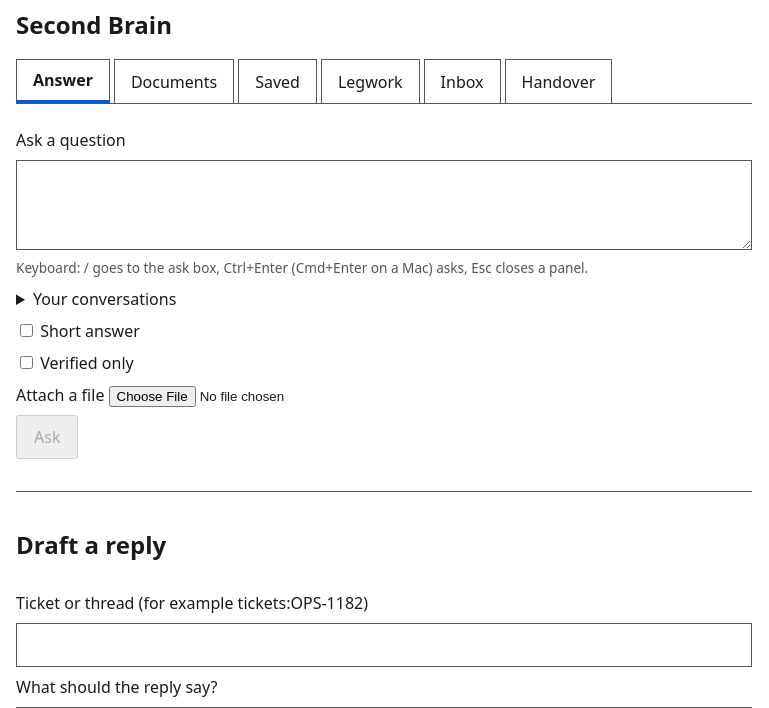
Test: handover by name › briefs at once when one person matches, and says when no one does
The image size is (769, 708).
Click the tab "Handover". click: (558, 81)
box: [505,59,612,103]
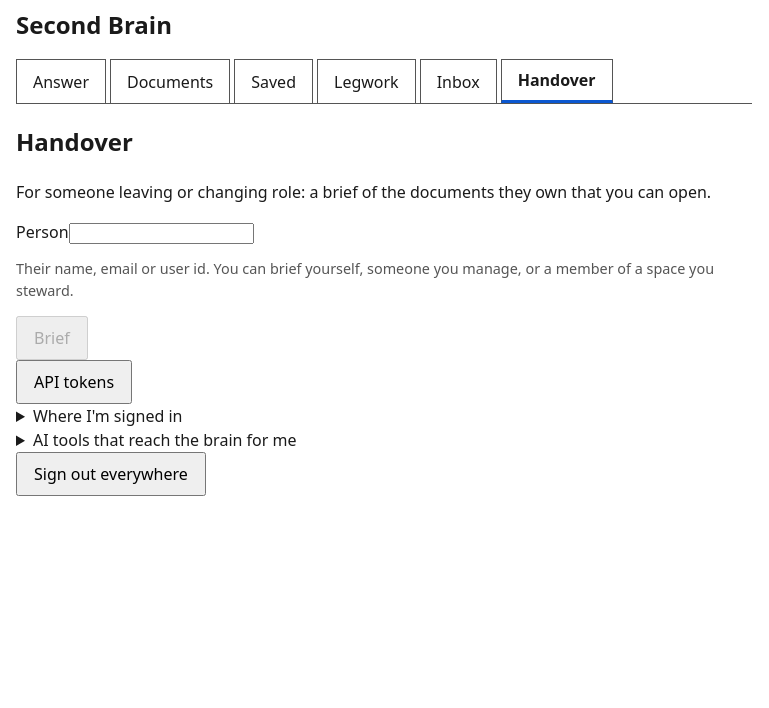
Type "dana@acme.example" into the field labelled "Person". click: (161, 234)
box: [68,223,254,244]
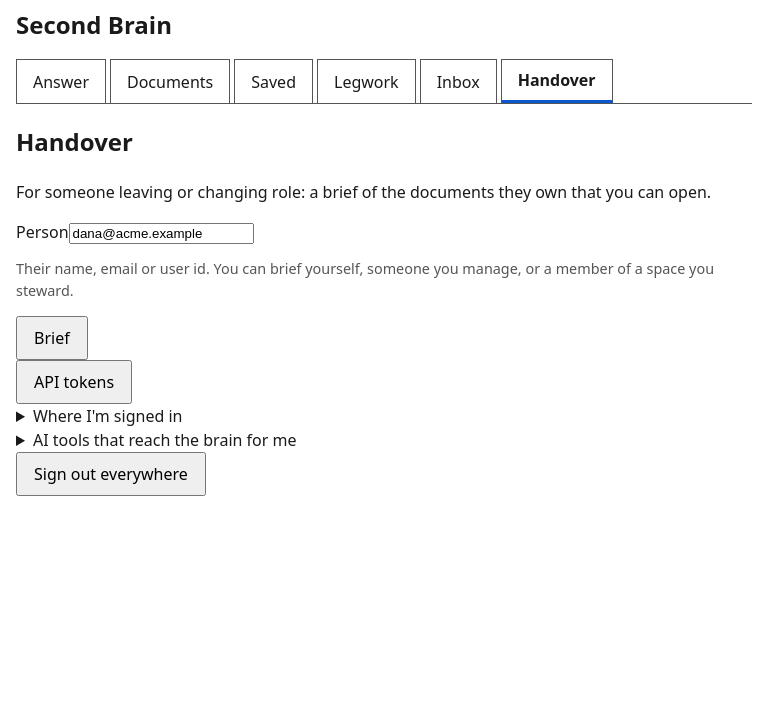
Click the button "Brief". click: (52, 338)
box: [16,316,88,360]
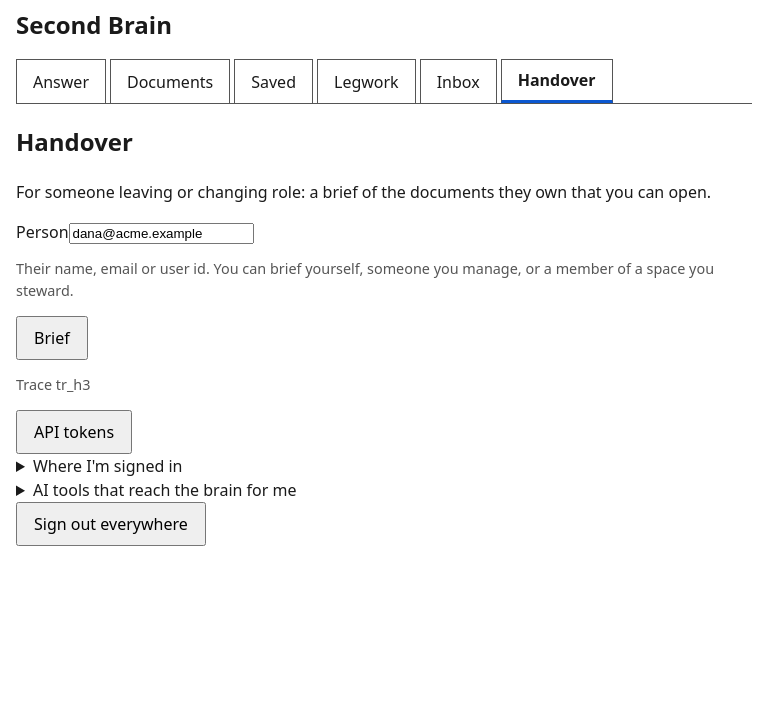
Replace the text in the field labelled "Person" with "zed". click: (161, 234)
box: [68,223,254,244]
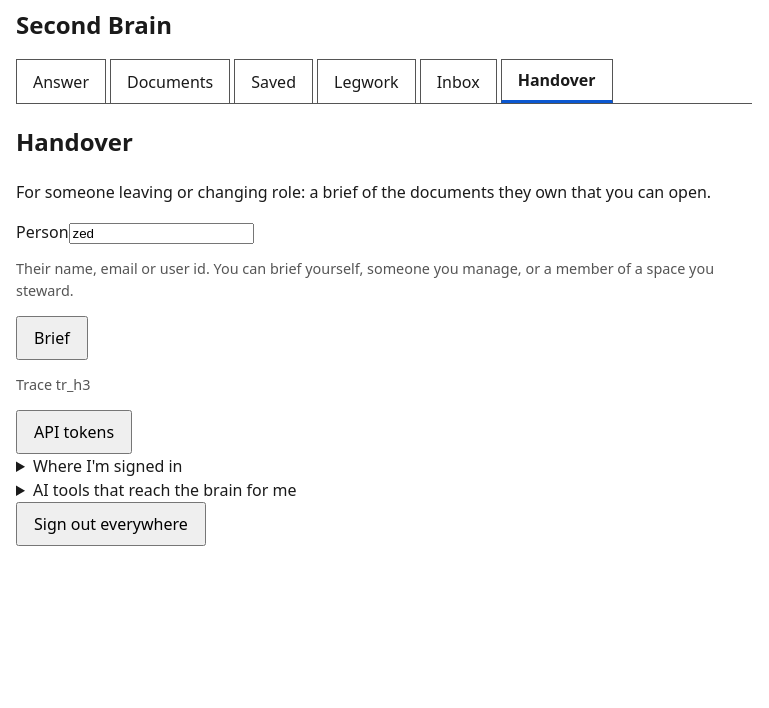
Click the button "Brief". click: (52, 338)
box: [16,316,88,360]
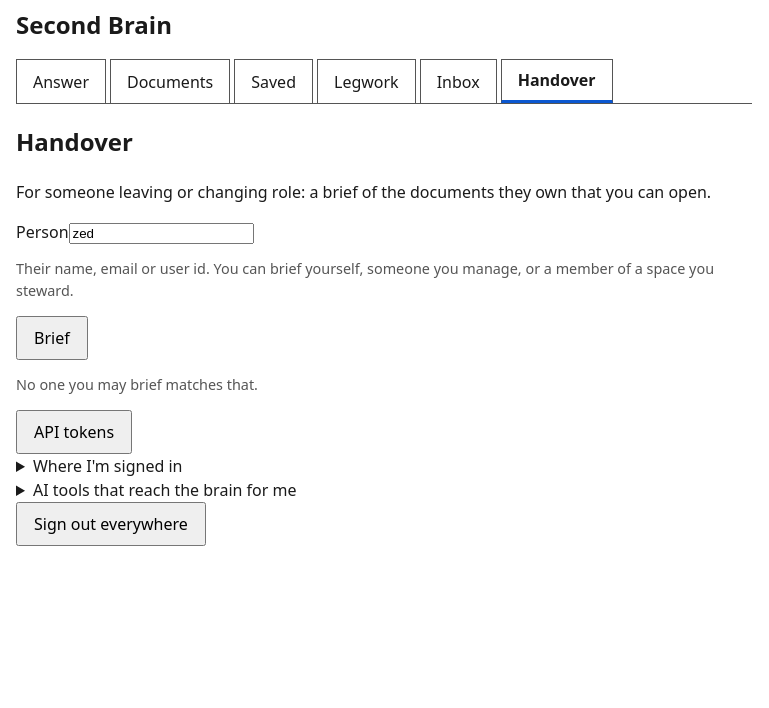
Expected: the text "No one you may brief matches that." is shown, [16,375,258,394]
